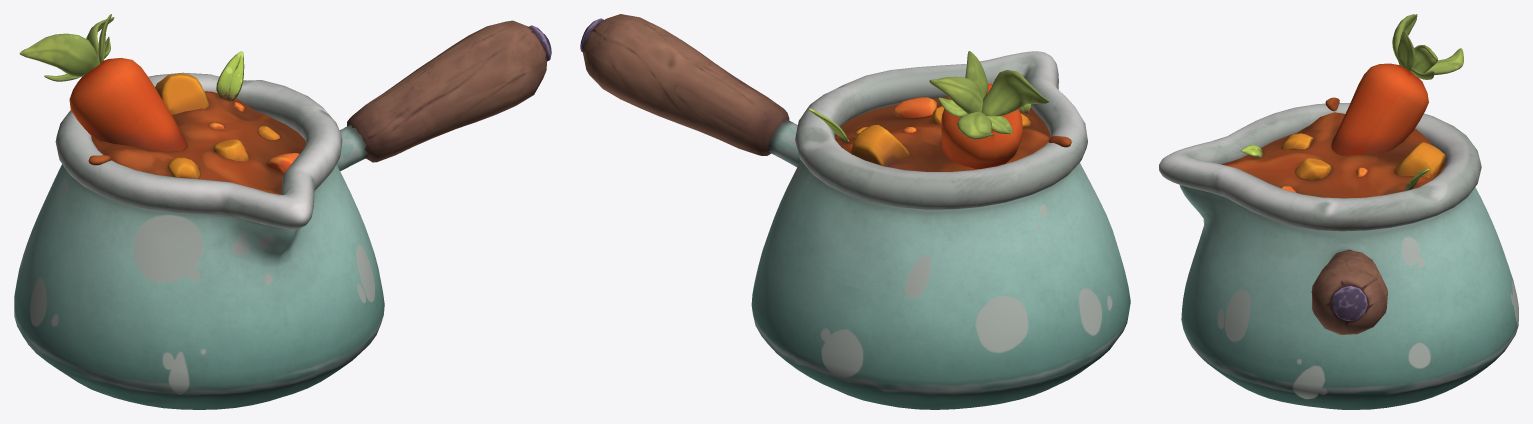
3 views of the same model, side by side, from view 1: azimuth 30°, elevation 25°; view 2: azimuth 150°, elevation 25°; view 3: azimuth 270°, elevation 25° (orthographic). The views are drawn at different scales.
Parts seen in each view (by area): view 1: PotBody_Low; view 2: PotBody_Low; view 3: PotBody_Low.
Part boxes in pixels (x1,y1,x2,y2): PotBody_Low: (14, 14, 551, 409); PotBody_Low: (580, 14, 1130, 409); PotBody_Low: (1159, 14, 1518, 409).
Size of the model in its own units: 11.56 by 7.42 by 7.75.
1 material, 1 textured.
